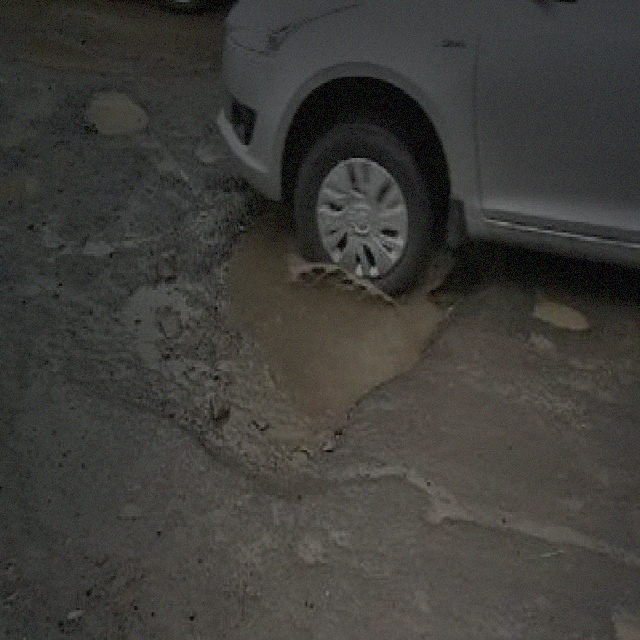pothole: (148, 164, 462, 493), (78, 84, 150, 134), (528, 292, 594, 335), (0, 155, 46, 213)
